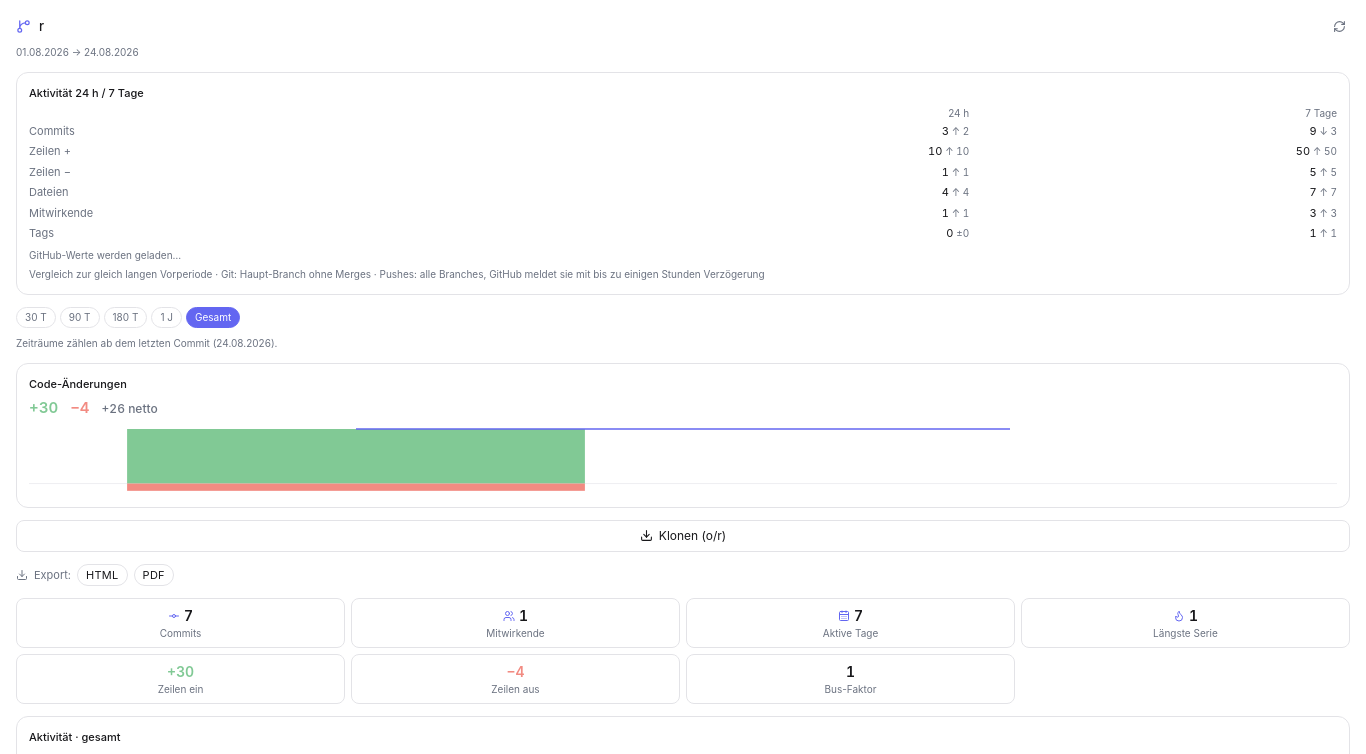
Scenario: RepoPanel › shows the empty-range note instead of empty cards
The width and height of the screenshot is (1366, 754).
Click the button "30 T". click: (36, 317)
box: x1=16 y1=306 x2=56 y2=328
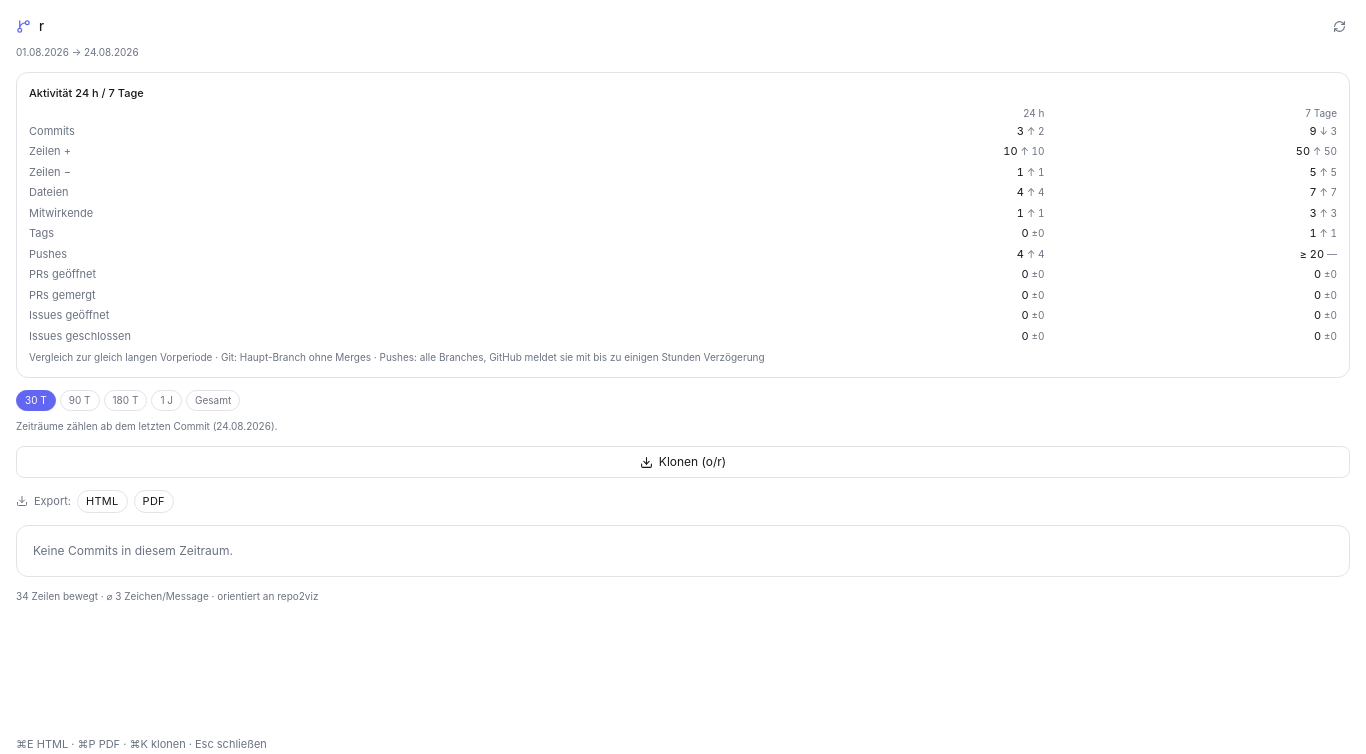
Now the text "Keine Commits in diesem Zeitraum." is shown, box x1=16 y1=524 x2=1350 y2=576
